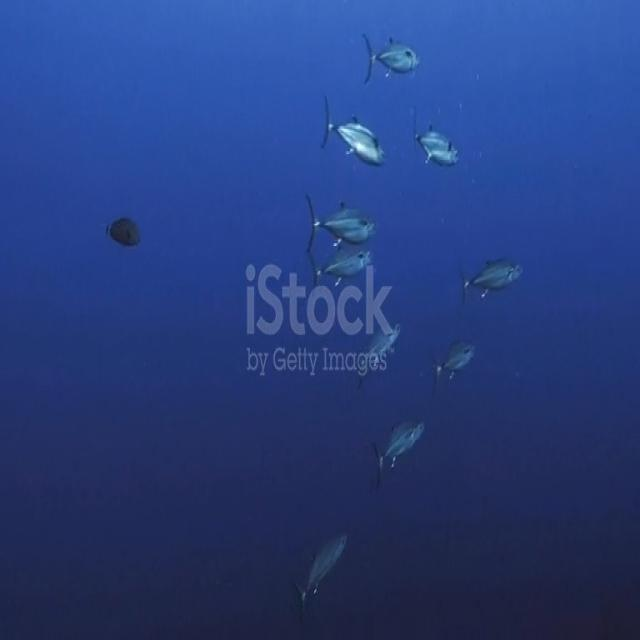fish: (293, 518, 356, 616), (322, 97, 387, 176), (360, 23, 424, 89), (306, 196, 381, 252), (370, 411, 428, 483), (353, 313, 403, 391), (456, 252, 532, 295), (432, 321, 481, 386), (414, 112, 464, 172), (313, 245, 379, 281), (101, 209, 142, 255)
